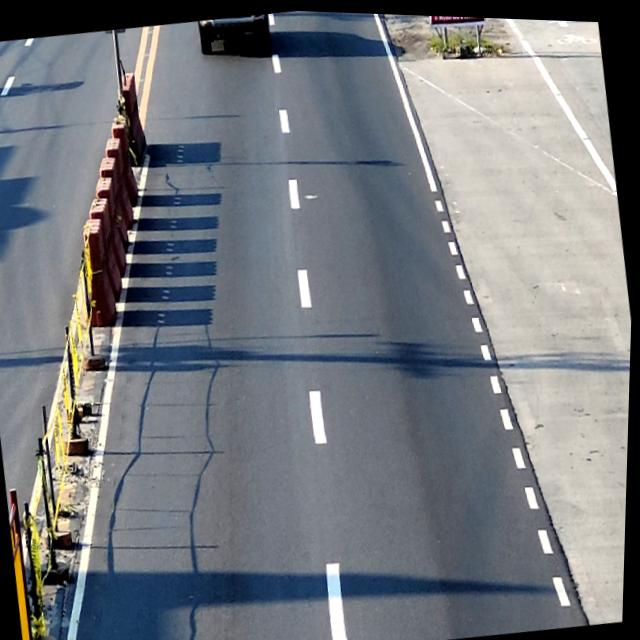Car: (196, 10, 273, 56)
